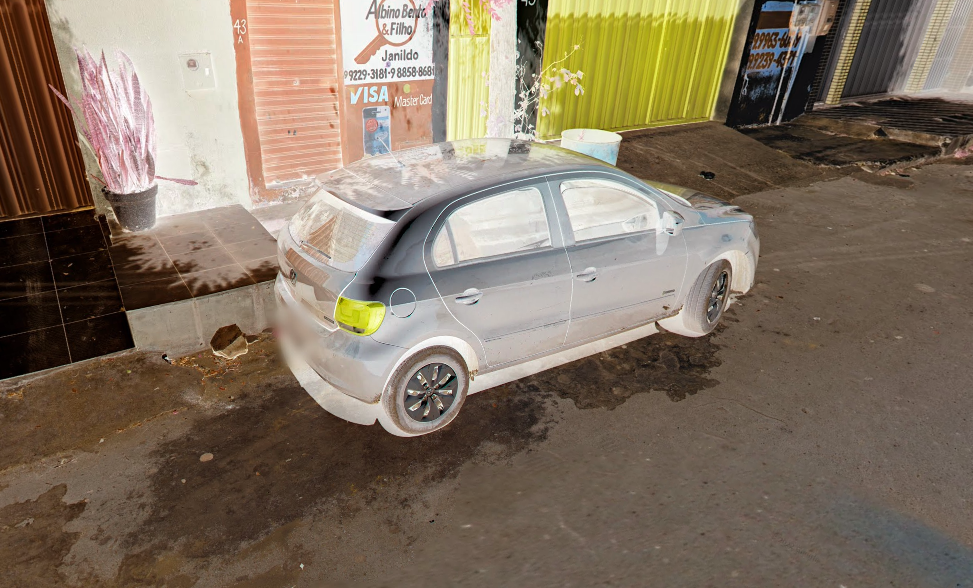car: (257, 129, 766, 449)
